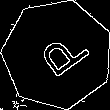P_SW: (26, 25, 89, 84)
